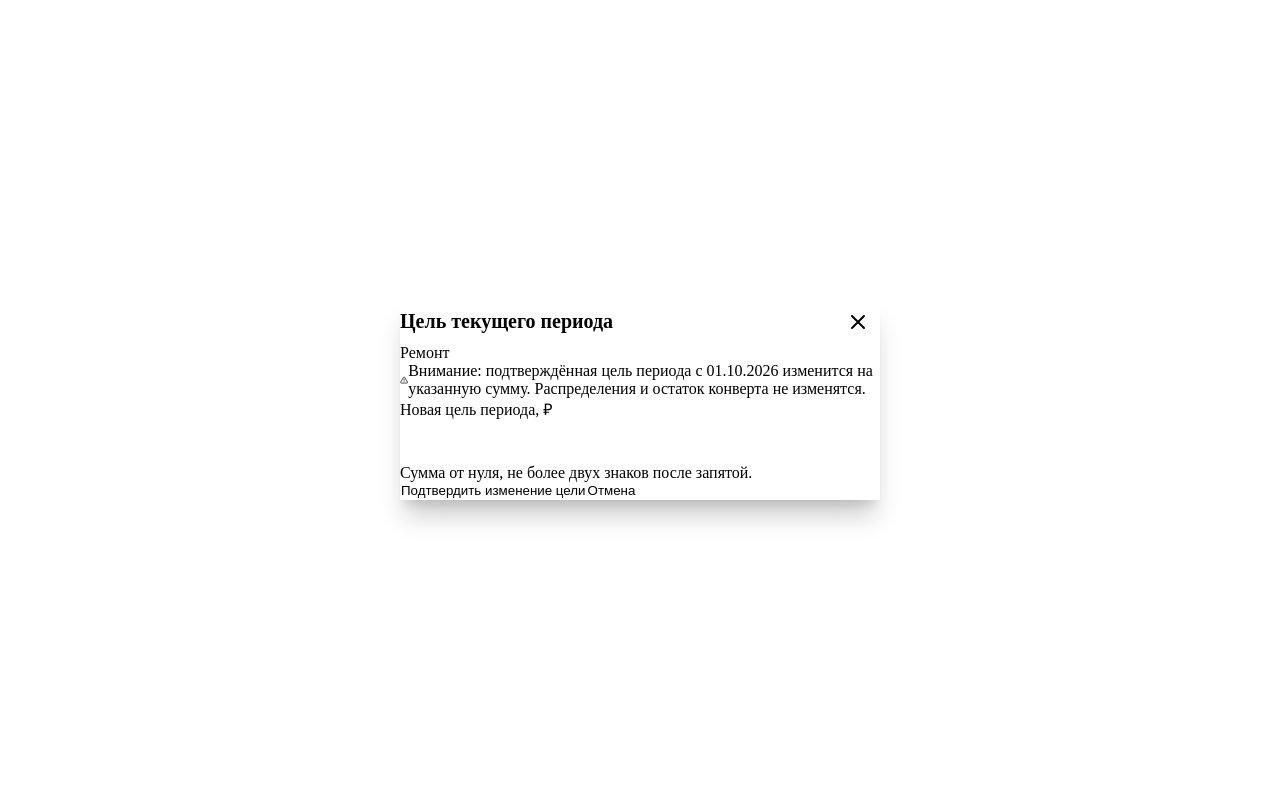
Test: PeriodTargetDialog › server errors › shows server field errors for the target at the field
The image size is (1280, 800).
In the field with test id "target-input": [640, 442] box left=400, top=420, right=880, bottom=464, type "100"
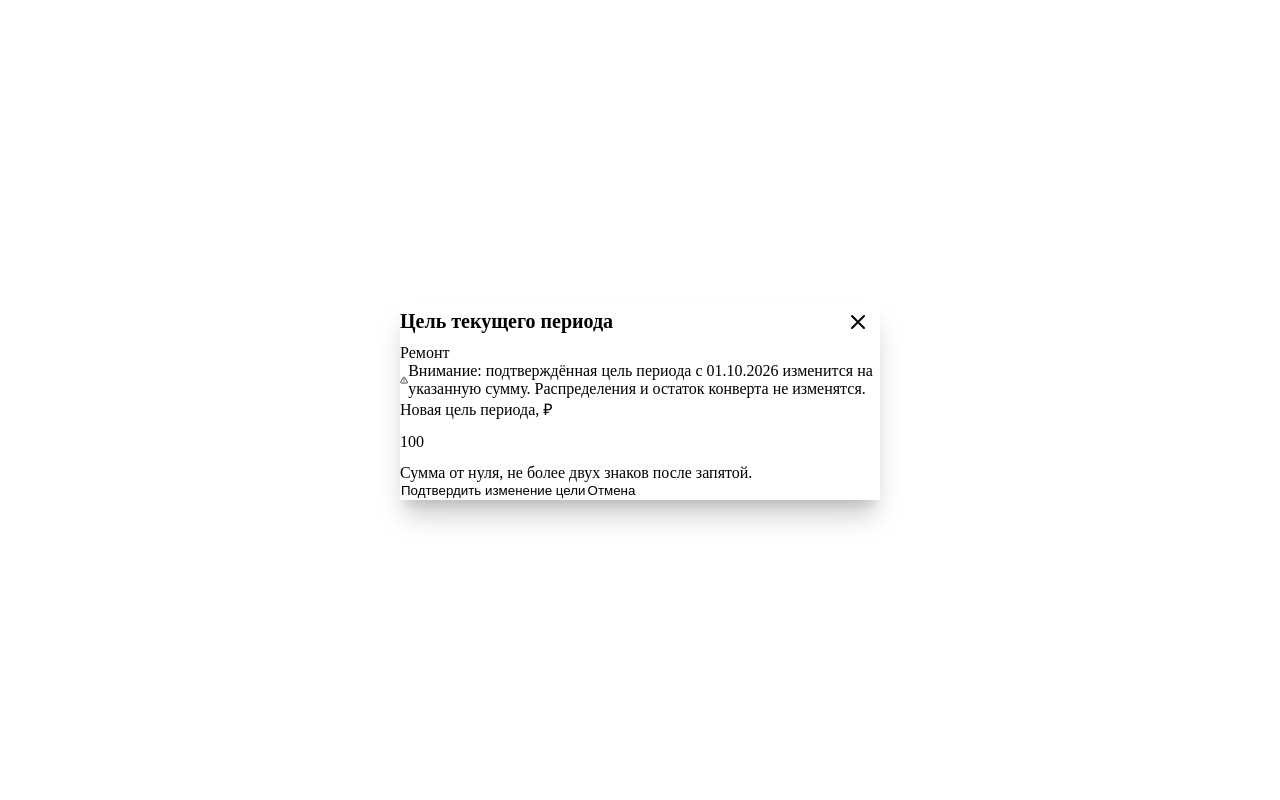
Click the button with test id "target-confirm": [493, 491] box left=400, top=482, right=586, bottom=500
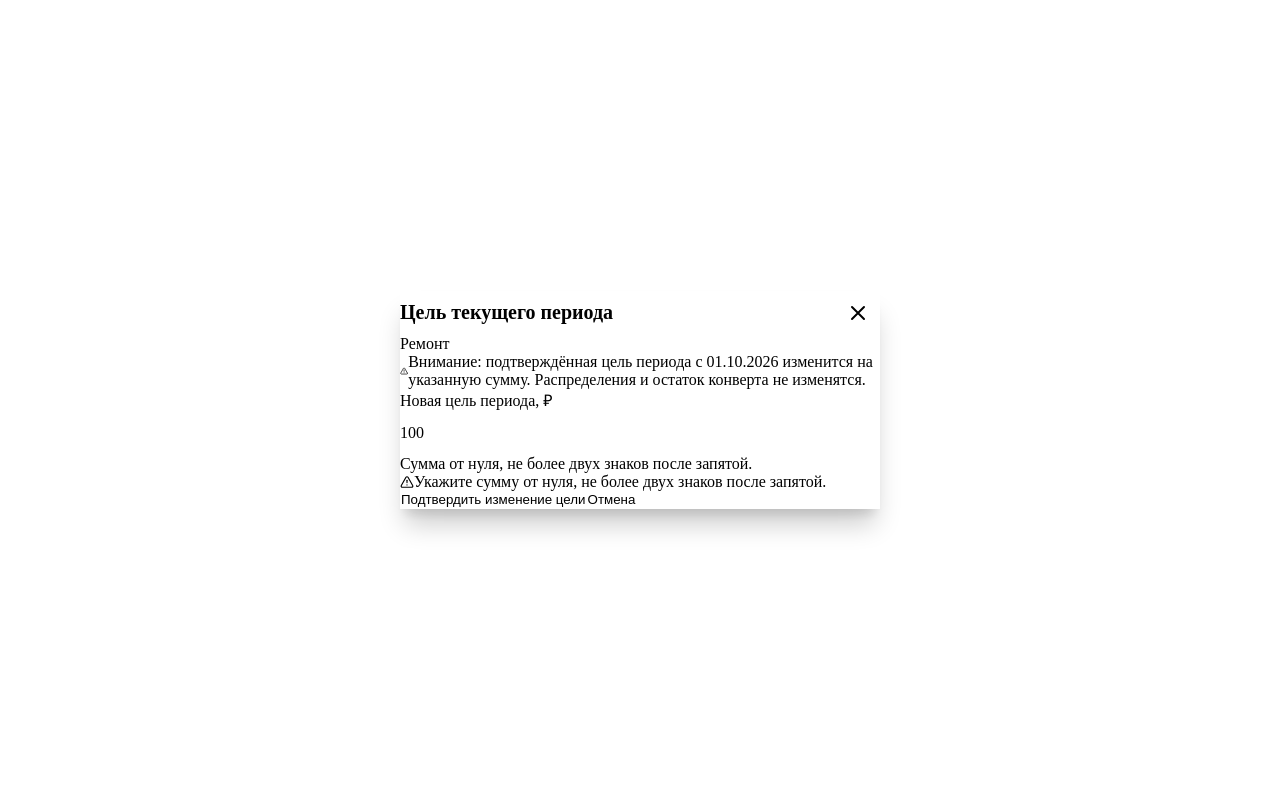
Now the element with test id "target-error" is shown, box left=400, top=473, right=880, bottom=491
